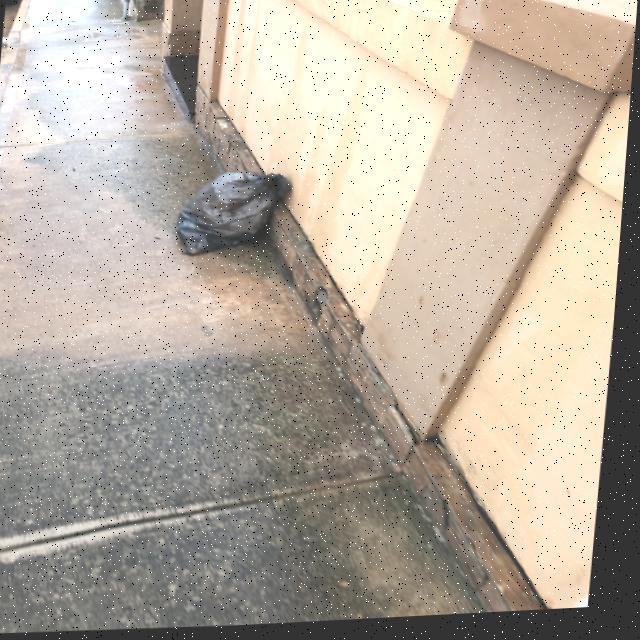Mixed Waste -Black Bag-: (179, 174, 295, 261)
